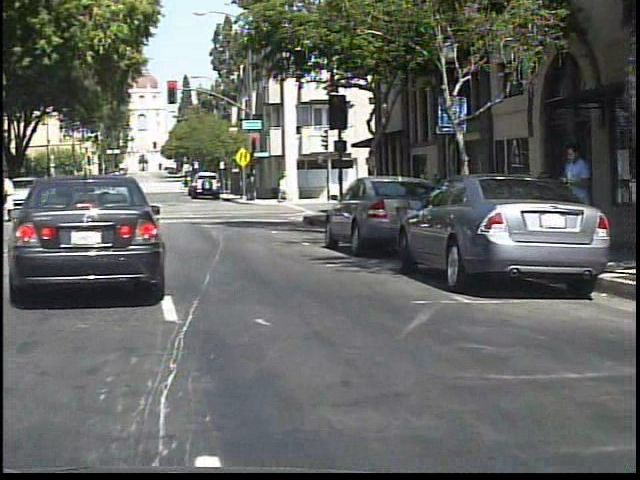person: (555, 139, 594, 259), (17, 174, 37, 208), (2, 175, 19, 211)
